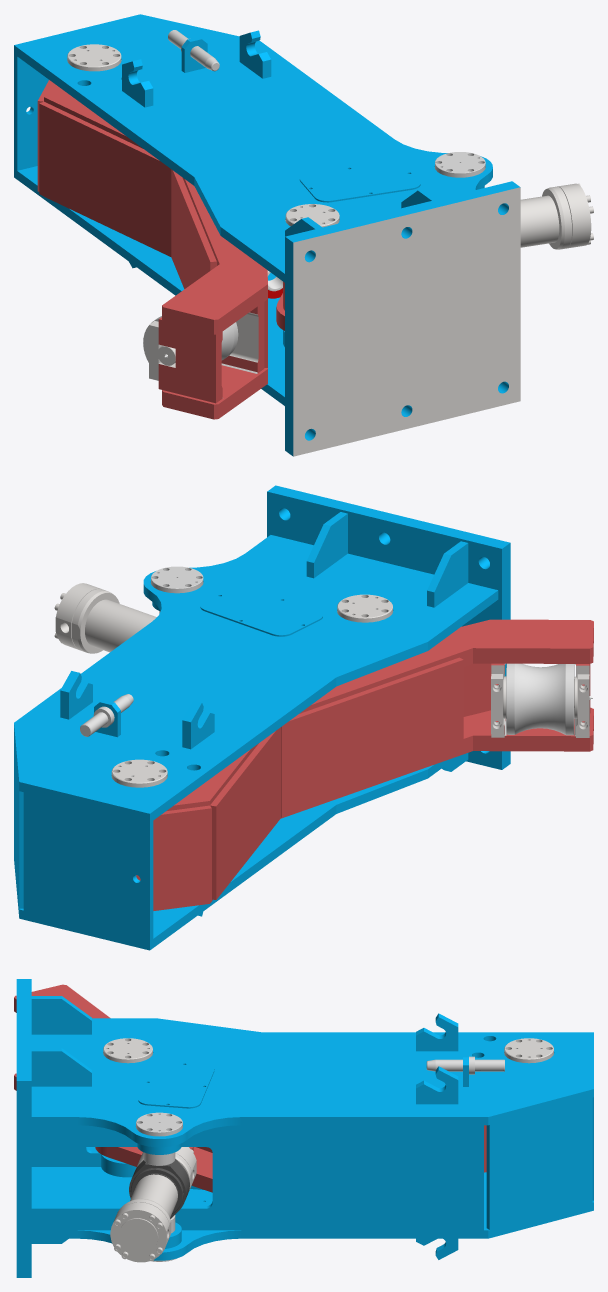
Rendered from 281b65ad-f737-3ddc-8ff5-f9bcba547503.glb.
The picture shows the model from 3 angles, top to bottom: view 1: azimuth 30°, elevation 25°; view 2: azimuth 150°, elevation 25°; view 3: azimuth 270°, elevation 25°; orthographic projection. The views are drawn at different scales.
Visible parts, largest first — view 1: Obj.21:1, Obj.14, Obj.37, Obj.30, Obj.11, Obj.21, Obj.33, Obj.118, Obj.143, Obj.38, Obj.22, Obj.31 (+11 smaller); view 2: Obj.14, Obj.38, Obj.22, Obj.21, Obj.30, Obj.37, Obj.11, Obj.35, Obj.118, Obj.57, Obj.143, Obj.31 (+12 smaller); view 3: Obj.14, Obj.20, Obj.19, Obj.11, Obj.21, Obj.118, Obj.143, Obj.16, Obj.15, Obj.75, Obj.24, Obj.139 (+10 smaller).
Part boxes in pixels (x1,y1,x2,y2): Obj.21:1: (293,187,520,456); Obj.14: (14,14,492,282); Obj.37: (39,101,171,256); Obj.30: (44,82,267,334); Obj.11: (14,166,284,405); Obj.21: (285,181,520,456); Obj.33: (158,317,222,403); Obj.118: (520,183,593,249); Obj.143: (299,160,420,202); Obj.38: (171,169,216,288); Obj.22: (14,54,48,170); Obj.31: (44,196,267,419); Obj.14: (14,535,498,822); Obj.38: (281,657,463,817); Obj.22: (23,792,153,941); Obj.21: (267,485,510,769); Obj.30: (167,619,593,810); Obj.37: (210,727,281,899); Obj.11: (14,756,457,950); Obj.35: (136,805,211,909); Obj.118: (54,583,156,653); Obj.57: (506,663,574,735); Obj.143: (200,585,322,636); Obj.31: (153,707,593,910); Obj.14: (31,1018,593,1147); Obj.20: (31,1125,483,1230); Obj.19: (486,1097,592,1229); Obj.11: (31,1147,593,1260); Obj.21: (16,979,31,1277); Obj.118: (110,1174,177,1262); Obj.143: (138,1061,214,1108); Obj.16: (31,996,91,1034); Obj.15: (31,1048,91,1086); Obj.75: (95,1147,212,1192); Obj.24: (31,1147,100,1166); Obj.139: (136,1112,182,1165).
Size of the model in its own units: 16.62 by 7.2 by 19.24.
